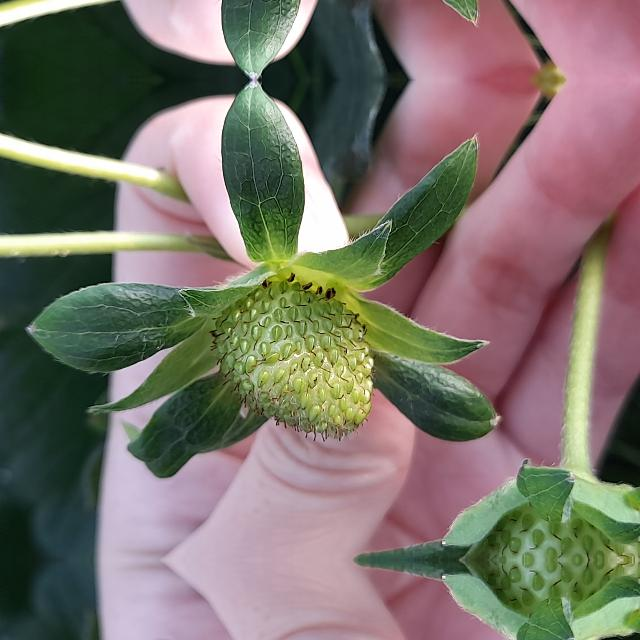Health_25: (208, 276, 376, 442)
